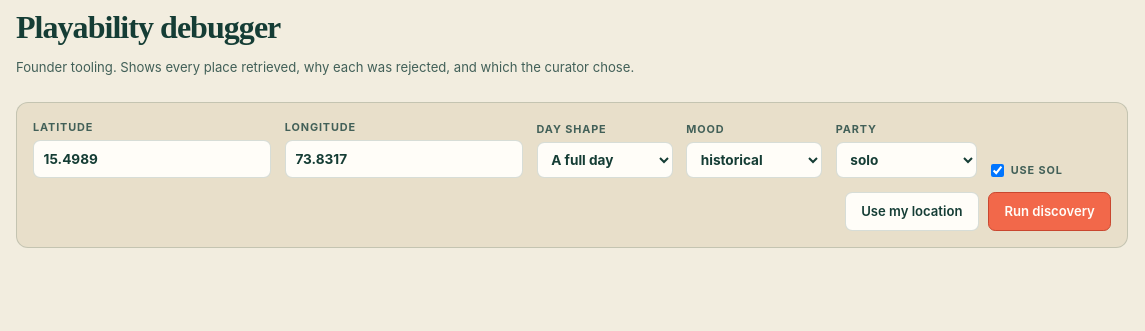
Test: PlayabilityDebugger › surfaces a provider failure code rather than a blank screen
Click the button "Run discovery": click(1050, 211) [988,192,1111,231]
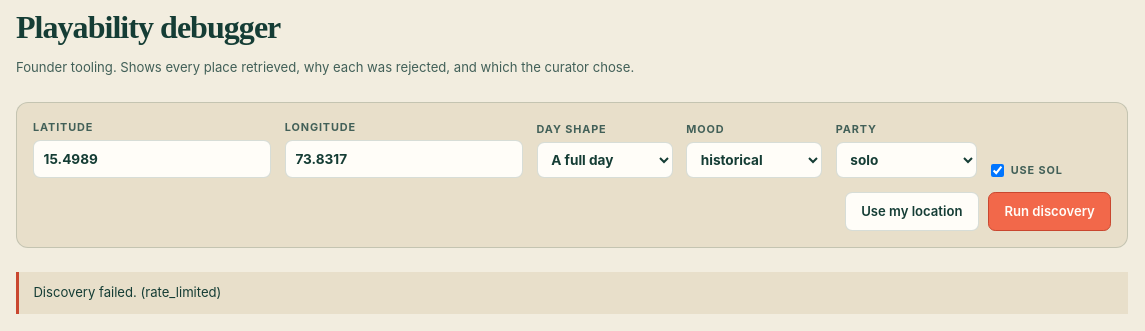
expect the text "Discovery failed. (rate_limited)" is shown: met, box [16,272,1128,314]
